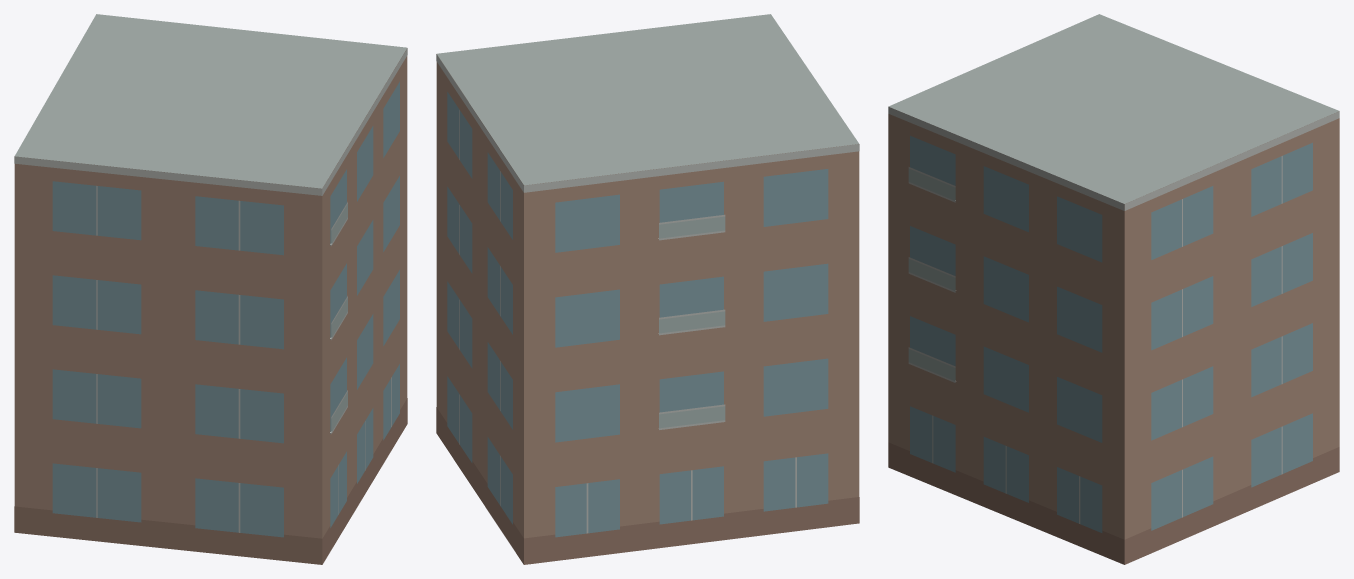
File: survey-upis-32663895.glb
The picture shows the model from 3 angles, left to right: view 1: azimuth 30°, elevation 25°; view 2: azimuth 150°, elevation 25°; view 3: azimuth 270°, elevation 25°; orthographic projection. The views are drawn at different scales.
Parts seen in each view (by area): view 1: survey-upis-32663895.tmp; view 2: survey-upis-32663895.tmp; view 3: survey-upis-32663895.tmp.
Boxes of the visible parts, left/top/right/bottom form: survey-upis-32663895.tmp: left=14, top=14, right=407, bottom=564; survey-upis-32663895.tmp: left=436, top=14, right=859, bottom=564; survey-upis-32663895.tmp: left=888, top=14, right=1339, bottom=564.
Bounding box in the file's own units: 14.13 × 12.5 × 14.18.
